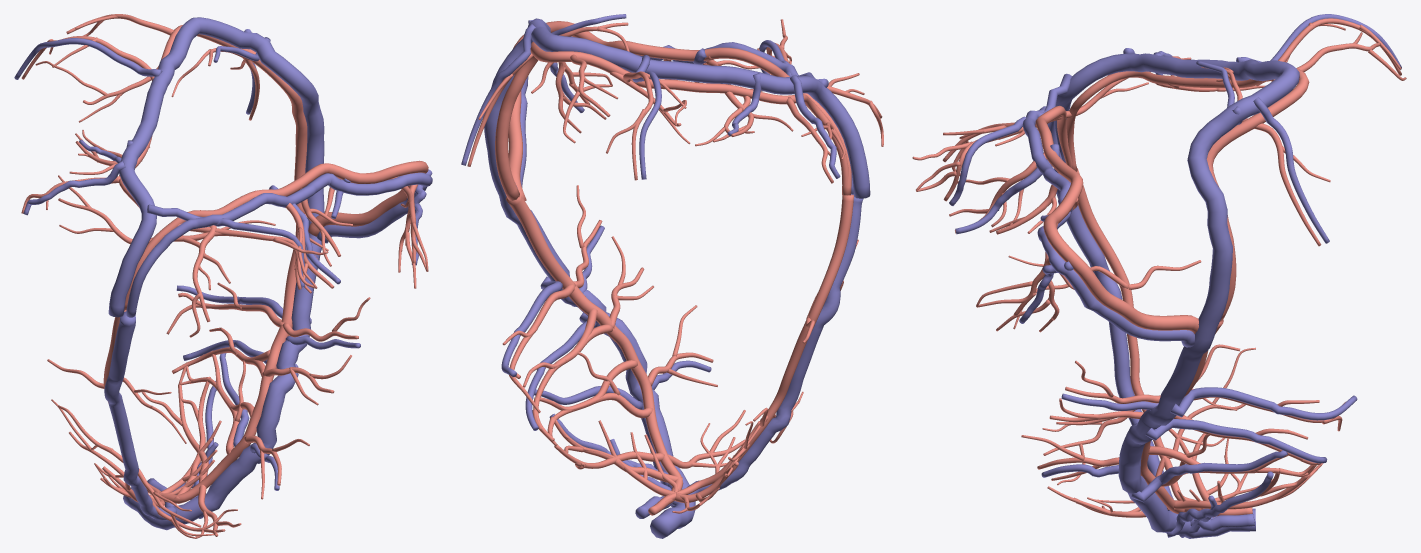
File: vessels_67.glb
The picture shows the model from 3 angles, left to right: view 1: azimuth 30°, elevation 25°; view 2: azimuth 150°, elevation 25°; view 3: azimuth 270°, elevation 25°; orthographic projection. The views are drawn at different scales.
Visible parts, largest first — view 1: Renderer Node; view 2: Renderer Node; view 3: Renderer Node.
Part boxes in pixels (left/top/right/bottom): Renderer Node: left=14, top=14, right=432, bottom=538; Renderer Node: left=461, top=14, right=883, bottom=538; Renderer Node: left=912, top=14, right=1406, bottom=538.
Size of the model in its own units: 97.83 by 122 by 107.
